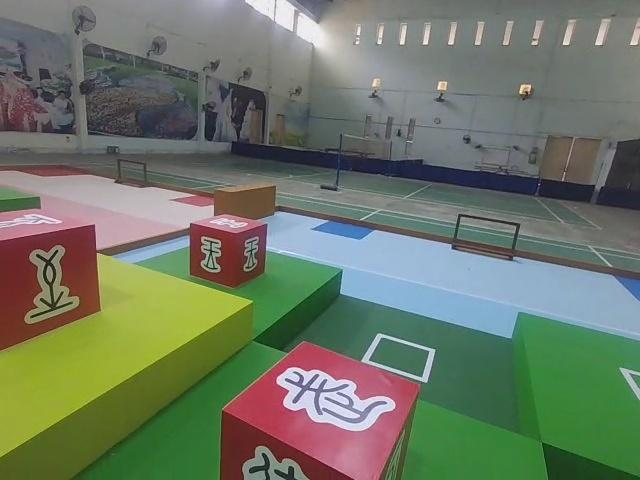R2 Fake: (217, 337, 421, 480)
R2 Real: (0, 203, 102, 348), (188, 214, 265, 288)
